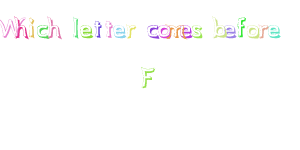F: (133, 60, 161, 91)
W: (1, 14, 19, 43)
b: (210, 14, 226, 42)
c: (36, 18, 50, 42), (146, 19, 160, 42)
e: (269, 21, 284, 41), (80, 20, 94, 41), (113, 19, 126, 41), (224, 20, 236, 41), (181, 21, 192, 42)
f: (236, 12, 248, 44)
h: (47, 14, 63, 43), (14, 15, 29, 43)
i: (27, 16, 37, 41)
l: (71, 14, 80, 40)
m: (168, 22, 183, 42)
o: (158, 21, 171, 42), (246, 21, 259, 42)
r: (126, 20, 140, 42), (258, 20, 268, 41)
s: (191, 22, 205, 41)
t: (104, 17, 114, 41), (93, 17, 103, 39)
